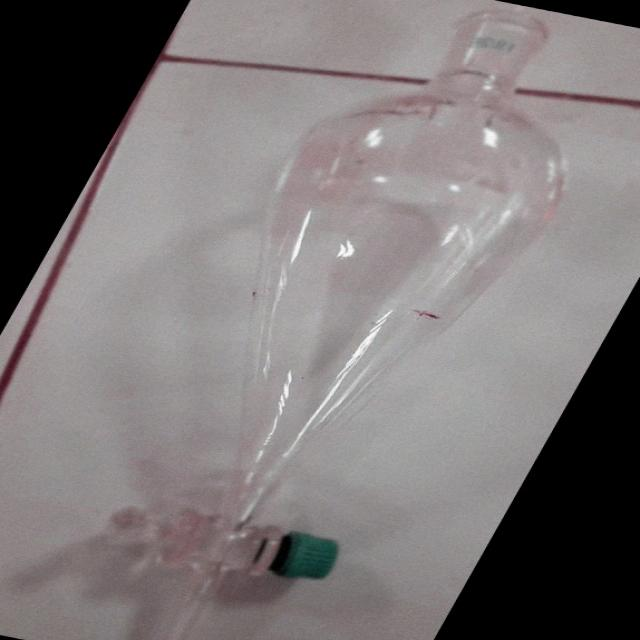Separating Funnel: (20, 0, 640, 640)
